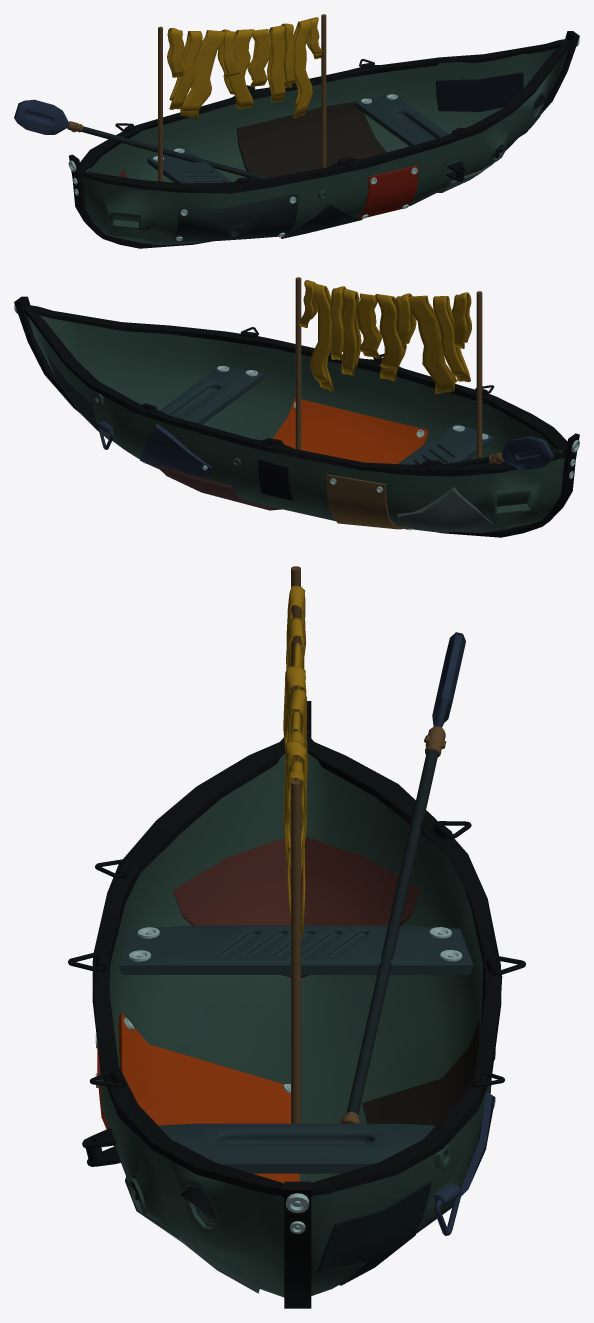
The model's file is KelpBoat02.fbx.
3 views of the same model, one above another, from view 1: azimuth 30°, elevation 25°; view 2: azimuth 150°, elevation 25°; view 3: azimuth 270°, elevation 25° (orthographic). The views are drawn at different scales.
Parts seen in each view (by area): view 1: BoatBody, Boat03, Line046, Box376, Line047, Line045, Kelp009, Box377, Box387, Kelp006, Kelp008, Kelp007 (+10 smaller); view 2: BoatBody, Line046, Boat03, Box376, Line048, Line045, Box379, Kelp009, Box377, Box378, Kelp006, Kelp008 (+10 smaller); view 3: BoatBody, Boat03, Line046, Box377, Box376, Cylinder304, Cylinder287, Line045, Box387, Kelp014, Box378.
Boxes of the visible parts, x1,y1,x2,y2 form: BoatBody: (82,48,568,245); Boat03: (118,72,547,241); Line046: (80,39,571,193); Box376: (354,94,449,171); Line047: (358,165,418,219); Line045: (69,31,579,248); Kelp009: (180,30,225,118); Box377: (147,146,232,183); Box387: (14,99,68,134); Kelp006: (293,19,312,118); Kelp008: (223,29,254,109); Kelp007: (267,25,285,101); BoatBody: (28,315,564,533); Line046: (24,305,567,476); Boat03: (47,355,428,510); Box376: (159,365,265,424); Line048: (326,474,410,529); Line045: (14,296,579,537); Box379: (397,486,493,532); Kelp009: (408,295,456,393); Box377: (398,423,494,464); Box378: (139,423,211,477); Kelp006: (310,283,334,391); Kelp008: (375,294,406,381); BoatBody: (100,753,495,1297); Boat03: (82,836,481,1293); Line046: (68,736,525,1197); Box377: (118,925,473,974); Box376: (117,1123,435,1173); Cylinder304: (345,750,437,1123); Cylinder287: (291,780,300,1123); Line045: (284,701,311,1308); Box387: (432,632,465,727); Kelp014: (283,740,307,877); Box378: (461,1092,495,1196).
Bounding box in the file's own units: 505 × 210 × 191.
